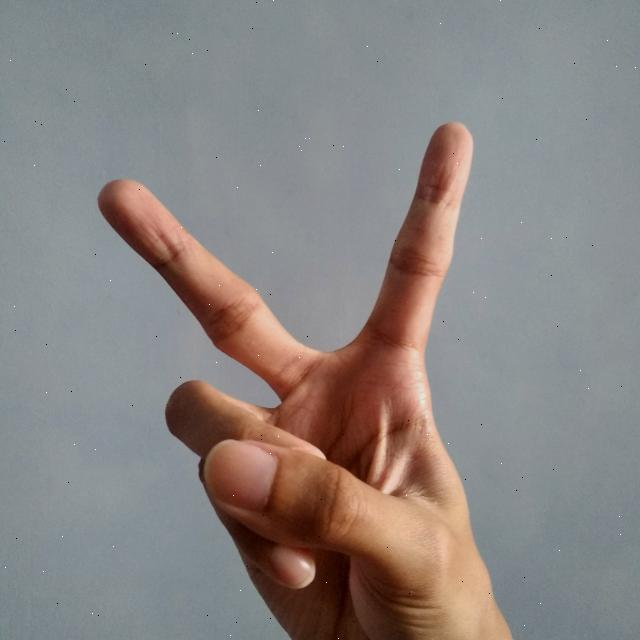V: (89, 113, 528, 640)
